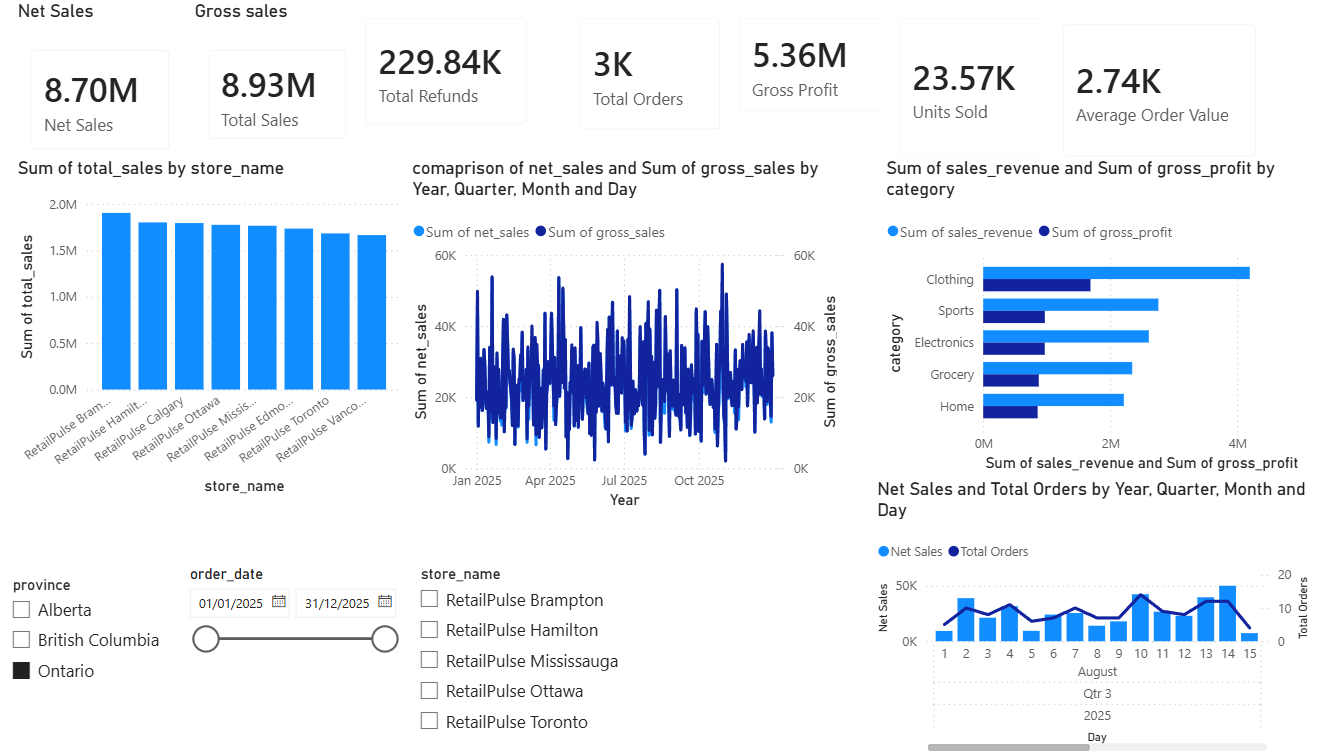

Layout of this report page (visuals, bound fields, positions):
{"tool":"powerbi","page":{"name":"overview","canvas":[1280,720],"ordinal":0},"visuals":[{"type":"cardVisual","title":"Net Sales","fields":{"Data":["public analytics_customer_performance.Net Sales"]},"box":[13.3,0,166.7,160],"z":0},{"type":"cardVisual","title":"Gross sales","fields":{"Data":["public analytics_customer_performance.Total Sales"]},"box":[181.7,0,166.7,150],"z":1000},{"type":"cardVisual","fields":{"Data":["public analytics_daily_sales.Total Refunds"]},"box":[331.7,0,188.3,135],"z":2000},{"type":"cardVisual","fields":{"Data":["public analytics_daily_sales.Total Orders"]},"box":[535,0,168.3,140],"z":3000},{"type":"cardVisual","fields":{"Data":["public analytics_daily_sales.Gross Profit"]},"box":[686.7,0,186.7,123.3],"z":4000},{"type":"cardVisual","fields":{"Data":["public analytics_daily_sales.Units Sold"]},"box":[840,0,180,165],"z":5000},{"type":"cardVisual","fields":{"Data":["public analytics_daily_sales.Average Order Value"]},"box":[995,5,218.3,160],"z":6000},{"type":"columnChart","fields":{"Category":["public analytics_store_performance.store_name"],"Y":["Sum(public analytics_store_performance.total_sales)"]},"box":[13.3,150,375,325],"z":7000},{"type":"lineChart","title":"comaprison of net_sales and Sum of gross_sales by Year, Quarter, Month and Day","fields":{"Y":["Sum(public analytics_daily_sales.net_sales)"],"Category":["public analytics_daily_sales.order_date.Variation.Date Hierarchy.Year","public analytics_daily_sales.order_date.Variation.Date Hierarchy.Quarter","public analytics_daily_sales.order_date.Variation.Date Hierarchy.Month","public analytics_daily_sales.order_date.Variation.Date Hierarchy.Day"],"Y2":["Sum(public analytics_daily_sales.gross_sales)"]},"box":[388.3,150,414,339],"z":8000},{"type":"clusteredBarChart","fields":{"Category":["public analytics_product_performance.category"],"Y":["Sum(public analytics_product_performance.sales_revenue)","Sum(public analytics_product_performance.gross_profit)"]},"box":[840,150,413.3,303.3],"z":9000},{"type":"lineClusteredColumnComboChart","fields":{"Category":["public analytics_daily_sales.order_date.Variation.Date Hierarchy.Year","public analytics_daily_sales.order_date.Variation.Date Hierarchy.Quarter","public analytics_daily_sales.order_date.Variation.Date Hierarchy.Month","public analytics_daily_sales.order_date.Variation.Date Hierarchy.Day"],"Y":["public analytics_daily_sales.Net Sales"],"Y2":["public analytics_daily_sales.Total Orders"]},"box":[831.7,455,421,265],"z":10000},{"type":"slicer","fields":{"Values":["public analytics_daily_sales.province"]},"box":[13.3,523.3,375,130],"z":10001}]}

Visuals, with their boxes in screenshot pixels (x1, y1, x2, y2), scaled from the page's 1280x720 canvas onto the 1338x751 screenshot:
"Net Sales" cardVisual: select_region(14, 0, 188, 167)
"Gross sales" cardVisual: select_region(190, 0, 364, 156)
cardVisual - public analytics_daily_sales.Total Refunds: select_region(347, 0, 544, 141)
cardVisual - public analytics_daily_sales.Total Orders: select_region(559, 0, 735, 146)
cardVisual - public analytics_daily_sales.Gross Profit: select_region(718, 0, 913, 129)
cardVisual - public analytics_daily_sales.Units Sold: select_region(878, 0, 1066, 172)
cardVisual - public analytics_daily_sales.Average Order Value: select_region(1040, 5, 1268, 172)
columnChart - public analytics_store_performance.store_name x Sum(public analytics_store_performance.total_sales): select_region(14, 156, 406, 495)
"comaprison of net_sales and Sum of gross_sales by Year, Quarter, Month and Day" lineChart: select_region(406, 156, 839, 510)
clusteredBarChart - public analytics_product_performance.category x Sum(public analytics_product_performance.sales_revenue): select_region(878, 156, 1310, 473)
lineClusteredColumnComboChart - public analytics_daily_sales.order_date.Variation.Date Hierarchy.Year x public analytics_daily_sales.order_date.Variation.Date Hierarchy.Quarter: select_region(869, 475, 1309, 750)
slicer - public analytics_daily_sales.province: select_region(14, 546, 406, 681)
